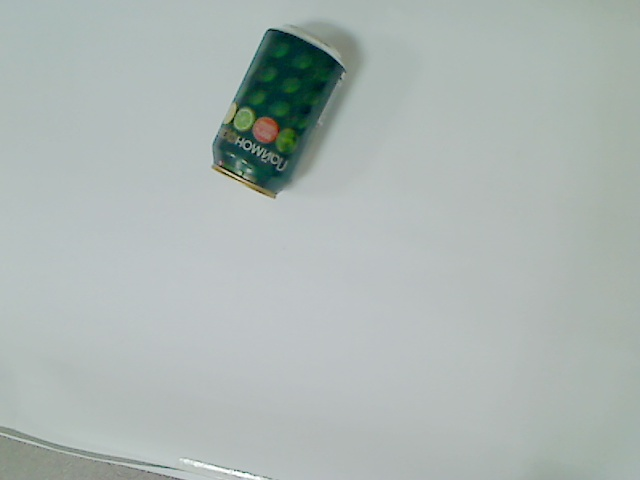can: (208, 23, 352, 202)
